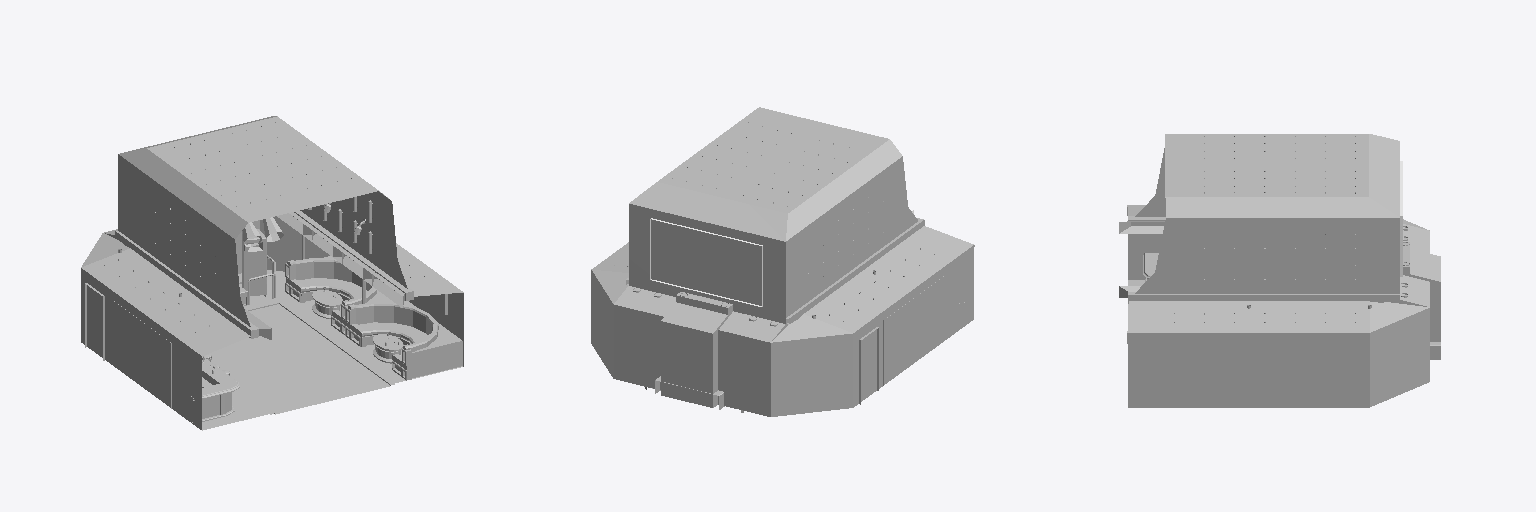
The model's file is nightClub.obj.
3 views of the same model, side by side, from view 1: azimuth 30°, elevation 25°; view 2: azimuth 150°, elevation 25°; view 3: azimuth 270°, elevation 25° (orthographic).
Parts seen in each view (by area): view 1: Walls2_M_Wall_0_M_Wall, DanceFloor_M_Floor_0_M_Floor, Floor1_M_Floor_0_M_Floor, Curved_Bench_8_M_BenchSeatandPicture_0_M_BenchSeatandPicture, Curved_Bench_9_M_BenchSeatandPicture_0_M_BenchSeatandPicture, Curved_Bench_4_M_BenchLowerandBack_0_M_BenchLowerandBack, Large_Speaker1_M_LargeSpeakerandGlasses_0_M_LargeSpeakerandGlass, DacneFloorTrim_M_WallFloorTrim_0_M_WallFloorTrim, TrimLightGlow4_M_WallFloorTrim_0_M_WallFloorTrim, Bar_Corner_M_BarTop_0_M_BarTop, TrimLightGlow5_M_WallFloorTrim_0_M_WallFloorTrim, TrimLightGlow_M_WallFloorTrim_0_M_WallFloorTrim (+8 smaller); view 2: Walls2_M_Wall_0_M_Wall; view 3: Walls2_M_Wall_0_M_Wall, TrimLightGlow_M_WallFloorTrim_0_M_WallFloorTrim, TrimLightGlow4_M_WallFloorTrim_0_M_WallFloorTrim.
Part boxes in pixels (x1,y1,x2,y2): Walls2_M_Wall_0_M_Wall: (81, 116, 463, 429); DanceFloor_M_Floor_0_M_Floor: (209, 308, 389, 414); Floor1_M_Floor_0_M_Floor: (202, 270, 462, 430); Curved_Bench_8_M_BenchSeatandPicture_0_M_BenchSeatandPicture: (355, 302, 428, 340); Curved_Bench_9_M_BenchSeatandPicture_0_M_BenchSeatandPicture: (295, 258, 361, 296); Curved_Bench_4_M_BenchLowerandBack_0_M_BenchLowerandBack: (409, 322, 462, 377); Large_Speaker1_M_LargeSpeakerandGlasses_0_M_LargeSpeakerandGlass: (242, 229, 266, 296); DacneFloorTrim_M_WallFloorTrim_0_M_WallFloorTrim: (237, 300, 394, 413); TrimLightGlow4_M_WallFloorTrim_0_M_WallFloorTrim: (363, 268, 413, 307); Bar_Corner_M_BarTop_0_M_BarTop: (191, 370, 239, 400); TrimLightGlow5_M_WallFloorTrim_0_M_WallFloorTrim: (333, 246, 380, 285); TrimLightGlow_M_WallFloorTrim_0_M_WallFloorTrim: (221, 308, 271, 339); Walls2_M_Wall_0_M_Wall: (591, 107, 974, 416); Walls2_M_Wall_0_M_Wall: (1127, 134, 1440, 407); TrimLightGlow_M_WallFloorTrim_0_M_WallFloorTrim: (1119, 216, 1165, 233); TrimLightGlow4_M_WallFloorTrim_0_M_WallFloorTrim: (1119, 286, 1188, 303).
Bounding box in the file's own units: 9.27 × 6.13 × 9.78.